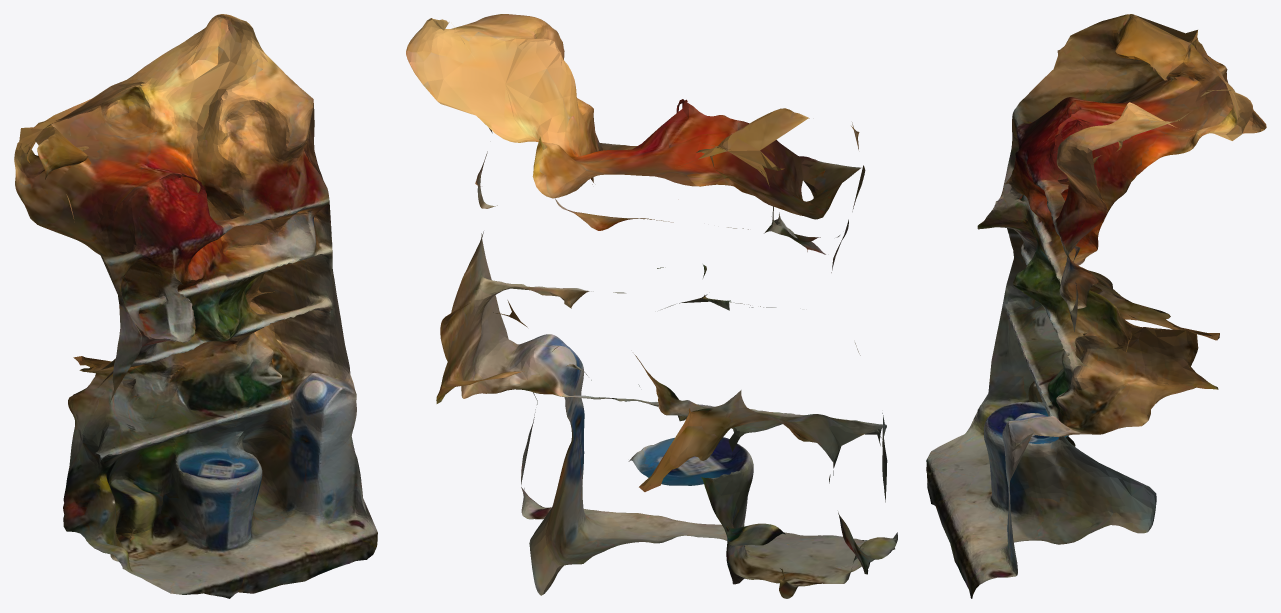
3 renders of one model, left to right at view 1: azimuth 30°, elevation 25°; view 2: azimuth 150°, elevation 25°; view 3: azimuth 270°, elevation 25°, orthographic. The views are drawn at different scales.
Bounding box in the file's own units: 1.99 × 3.15 × 1.96.
Materials: 1 (1 with a texture image).
